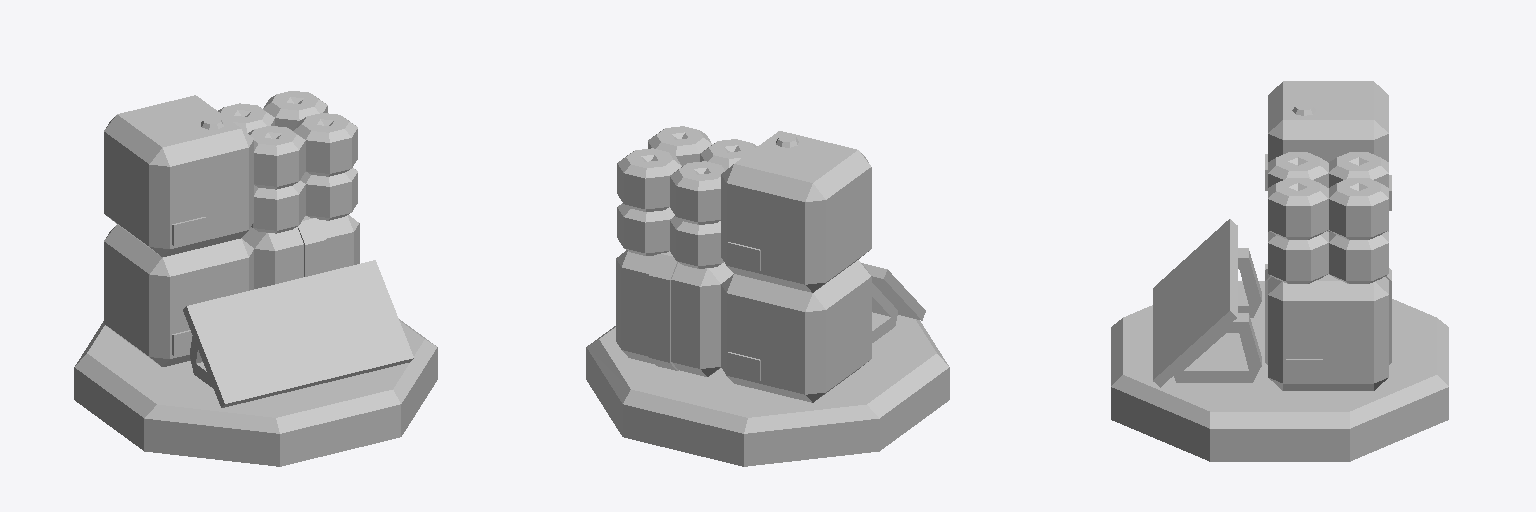
The model's file is roofmodule_cargo_C.obj.
3 renders of one model, left to right at view 1: azimuth 30°, elevation 25°; view 2: azimuth 150°, elevation 25°; view 3: azimuth 270°, elevation 25°, orthographic.
Visible parts, largest first — view 1: roofmodule_cargo_C_Cylinder.2711; view 2: roofmodule_cargo_C_Cylinder.2711; view 3: roofmodule_cargo_C_Cylinder.2711.
Part boxes in pixels (bbox=[...]): roofmodule_cargo_C_Cylinder.2711: bbox=[74, 91, 437, 466]; roofmodule_cargo_C_Cylinder.2711: bbox=[586, 126, 949, 466]; roofmodule_cargo_C_Cylinder.2711: bbox=[1111, 81, 1448, 461].
Size of the model in its own units: 1.4 by 1.22 by 1.4.